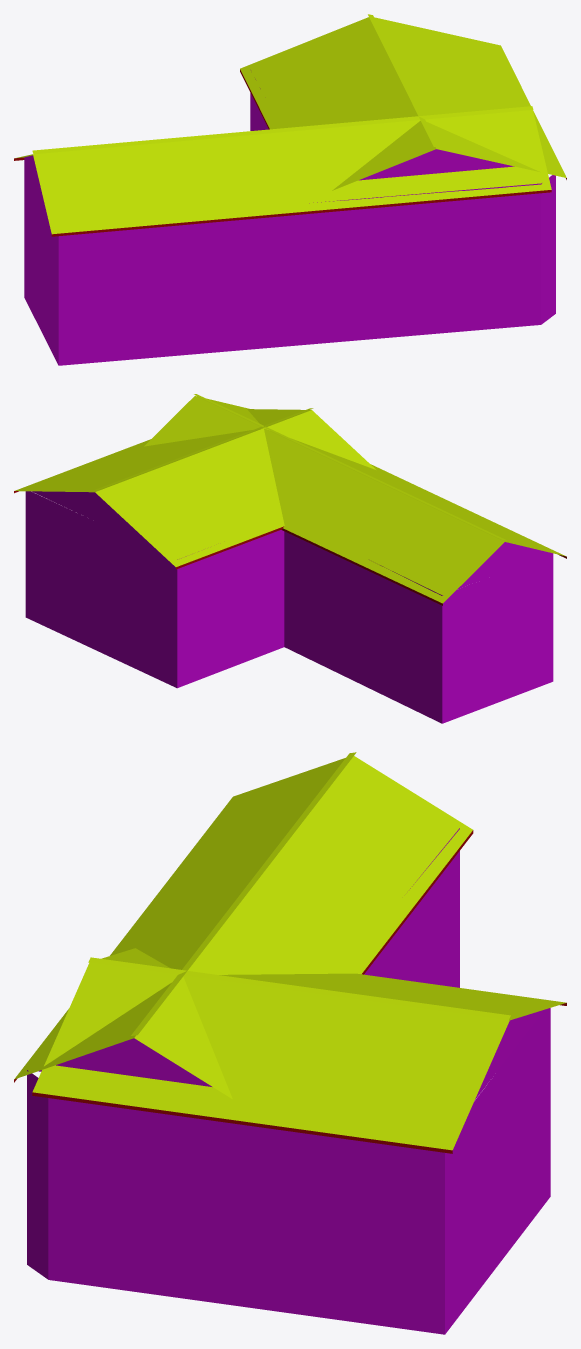
File: bgj_153.glb
3 views of the same model, one above another, from view 1: azimuth 30°, elevation 25°; view 2: azimuth 150°, elevation 25°; view 3: azimuth 270°, elevation 25° (orthographic). The views are drawn at different scales.
Parts seen in each view (by area): view 1: bgj_153; view 2: bgj_153; view 3: bgj_153.
Boxes of the visible parts, box(x1,y1,x2,y2) form: bgj_153: box(14, 14, 566, 365); bgj_153: box(14, 394, 566, 723); bgj_153: box(14, 752, 566, 1334).
Size of the model in its own units: 26.32 by 8.65 by 17.29.
